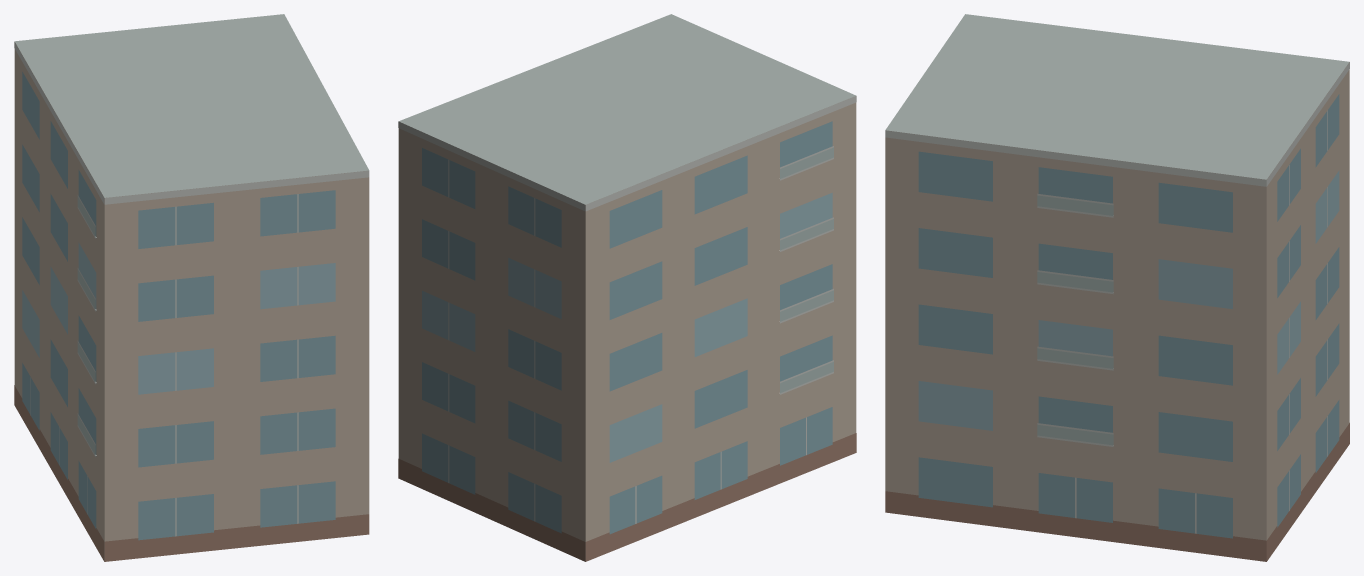
File: survey-upis-32875055.glb
The picture shows the model from 3 angles, left to right: view 1: azimuth 30°, elevation 25°; view 2: azimuth 150°, elevation 25°; view 3: azimuth 270°, elevation 25°; orthographic projection. The views are drawn at different scales.
Visible parts, largest first — view 1: survey-upis-32875055.tmp; view 2: survey-upis-32875055.tmp; view 3: survey-upis-32875055.tmp.
Boxes of the visible parts, x1=… form: survey-upis-32875055.tmp: x1=14, y1=14, x2=369, y2=561; survey-upis-32875055.tmp: x1=398, y1=14, x2=856, y2=561; survey-upis-32875055.tmp: x1=885, y1=14, x2=1349, y2=561.
Size of the model in its own units: 12.1 by 13 by 14.33.
